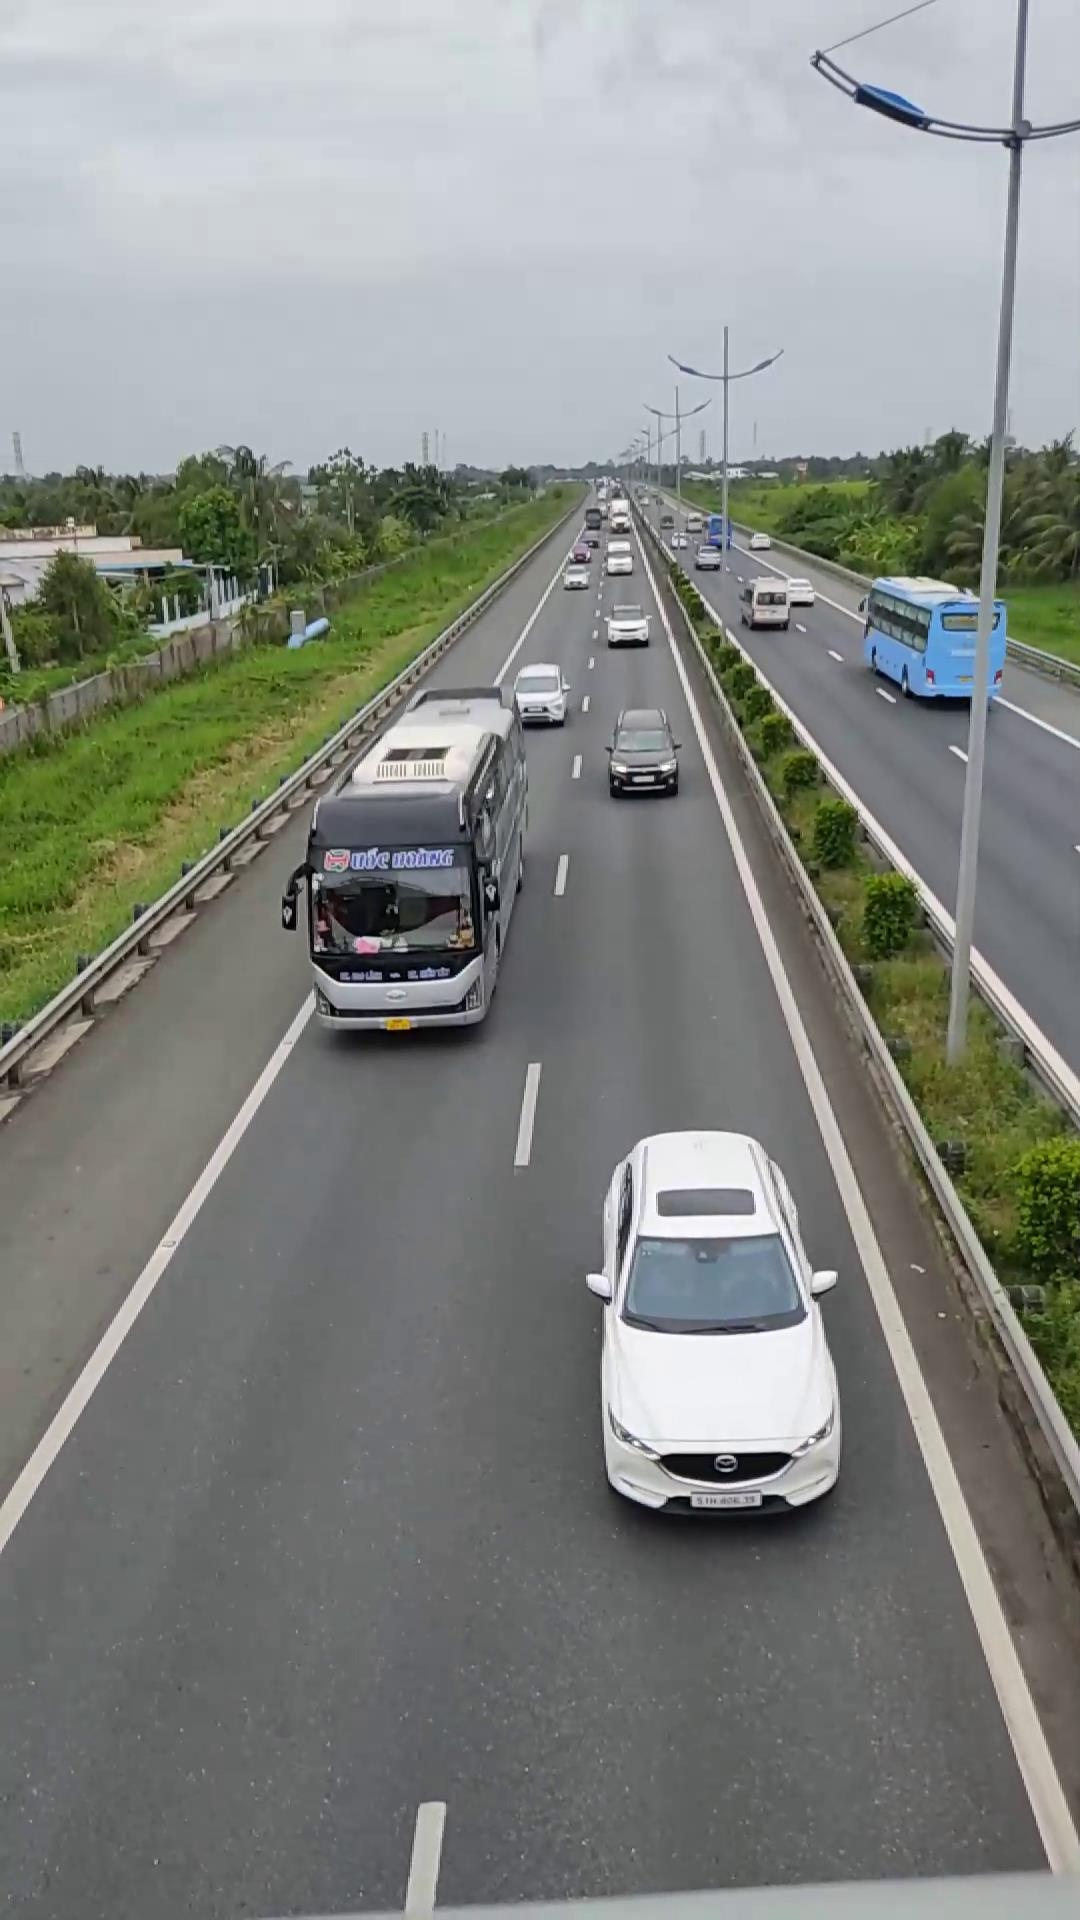bus: (287, 695, 527, 1035)
car: (585, 1127, 845, 1519), (603, 708, 682, 796), (505, 662, 575, 727)
